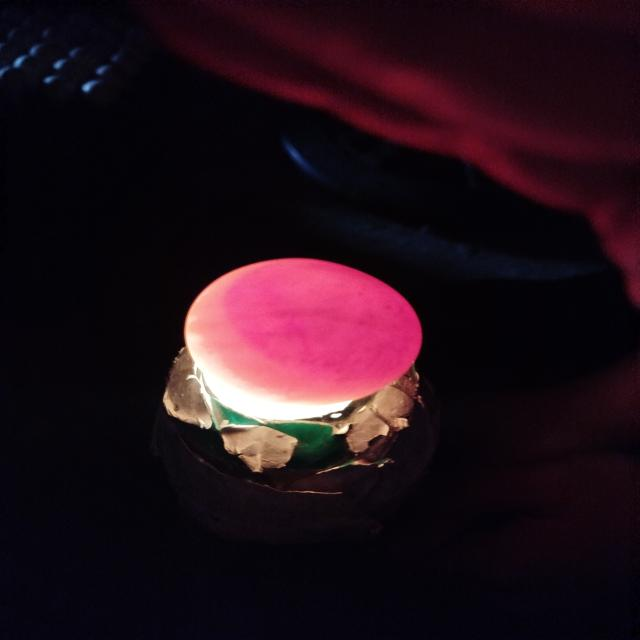Gema Quebrada: (223, 259, 423, 377)
